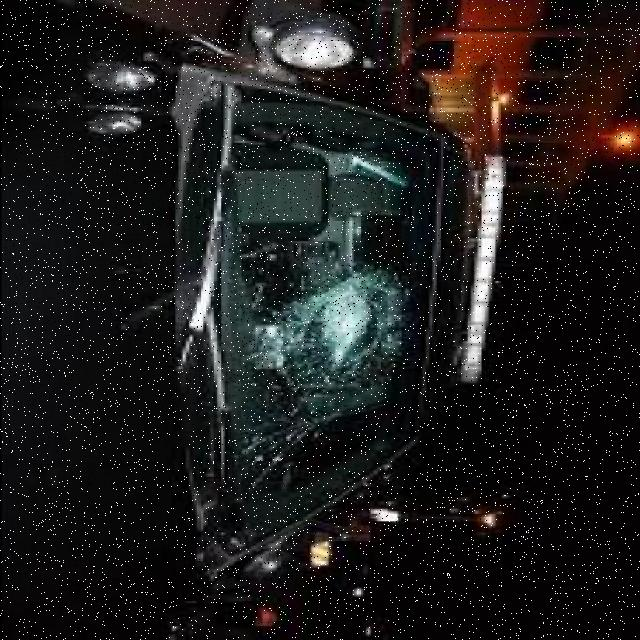damage: (261, 264, 408, 416)
